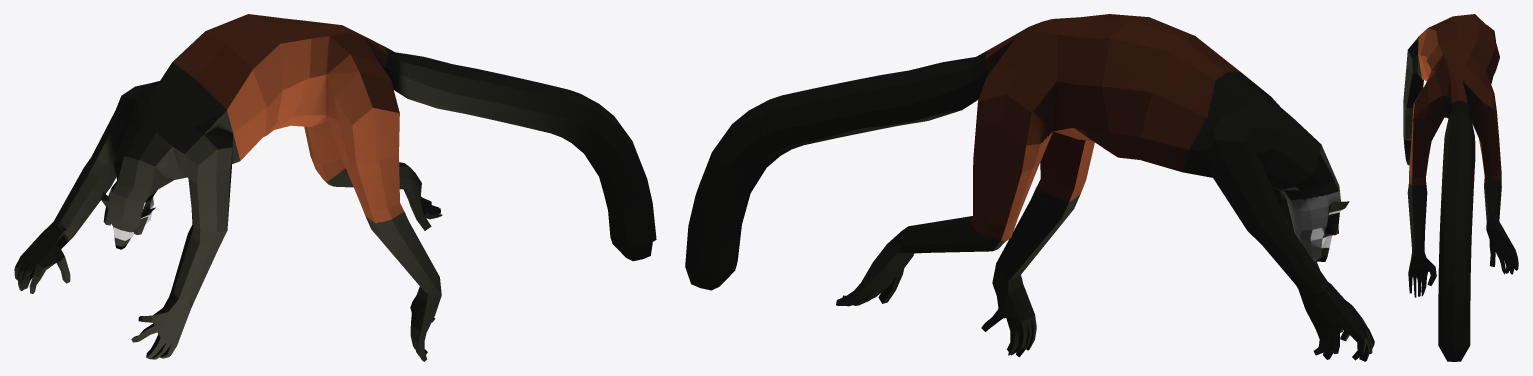
The model's file is notharctus.glb.
The picture shows the model from 3 angles, left to right: view 1: azimuth 30°, elevation 25°; view 2: azimuth 150°, elevation 25°; view 3: azimuth 270°, elevation 25°; orthographic projection. The views are drawn at different scales.
Parts seen in each view (by area): view 1: Notharctus; view 2: Notharctus; view 3: Notharctus.
Boxes of the visible parts, x1,y1,x2,y2 form: Notharctus: [14, 14, 656, 361]; Notharctus: [685, 14, 1374, 361]; Notharctus: [1403, 14, 1518, 361].
Size of the model in its own units: 0.7319 by 0.3944 by 0.1787.
1 material, 1 textured.
